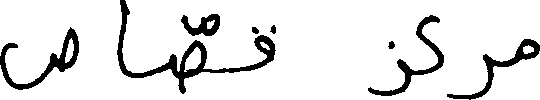ا: (117, 0, 127, 78)
ر: (448, 52, 491, 99)
ز: (367, 39, 408, 96)
ص: (0, 24, 79, 90), (169, 40, 206, 94)
ق: (252, 23, 273, 71)
ك: (414, 13, 442, 76)
م: (518, 37, 539, 63)
